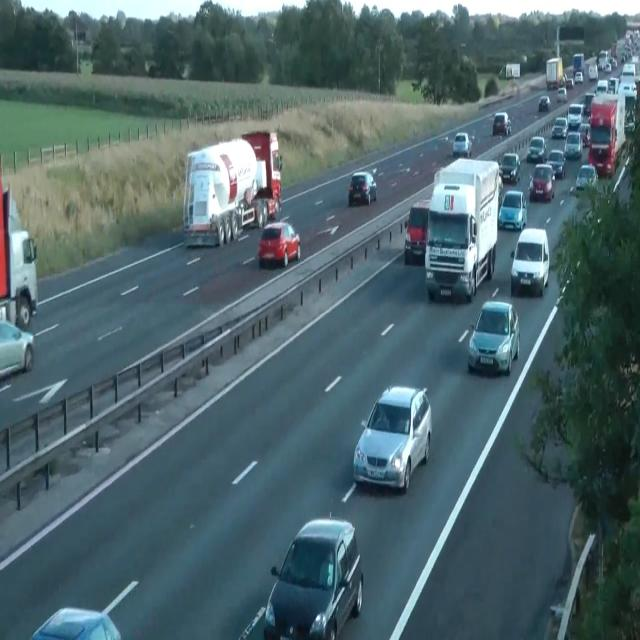bus: (264, 514, 364, 639), (352, 384, 432, 493), (467, 300, 519, 375), (31, 606, 121, 639), (258, 220, 300, 268), (0, 319, 34, 378), (404, 199, 430, 265), (497, 189, 527, 231), (528, 164, 556, 202), (348, 171, 376, 206), (498, 152, 521, 183), (546, 148, 566, 178), (576, 164, 598, 191), (526, 135, 546, 164), (452, 132, 472, 158), (564, 131, 582, 159), (493, 111, 511, 136), (551, 116, 568, 138), (618, 78, 636, 97), (624, 107, 636, 133), (578, 122, 590, 146), (584, 91, 596, 113), (622, 62, 636, 80), (538, 95, 550, 112), (497, 172, 503, 205), (596, 79, 608, 94), (562, 73, 574, 88), (557, 86, 567, 102), (588, 64, 598, 80), (607, 78, 617, 94), (575, 71, 583, 85)
car: (30, 579, 138, 639)
jeep: (510, 227, 550, 296)
minibus: (182, 130, 282, 247), (424, 157, 502, 303), (0, 182, 38, 327), (240, 130, 282, 228), (588, 91, 626, 178), (545, 57, 563, 90), (572, 52, 584, 78), (506, 63, 520, 78)
